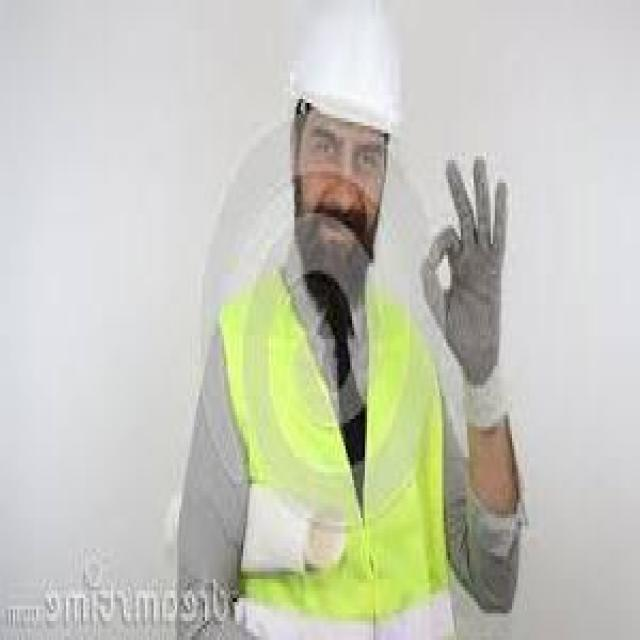reflective_jacket: (211, 270, 471, 636)
safety_helmet: (279, 3, 420, 156)
